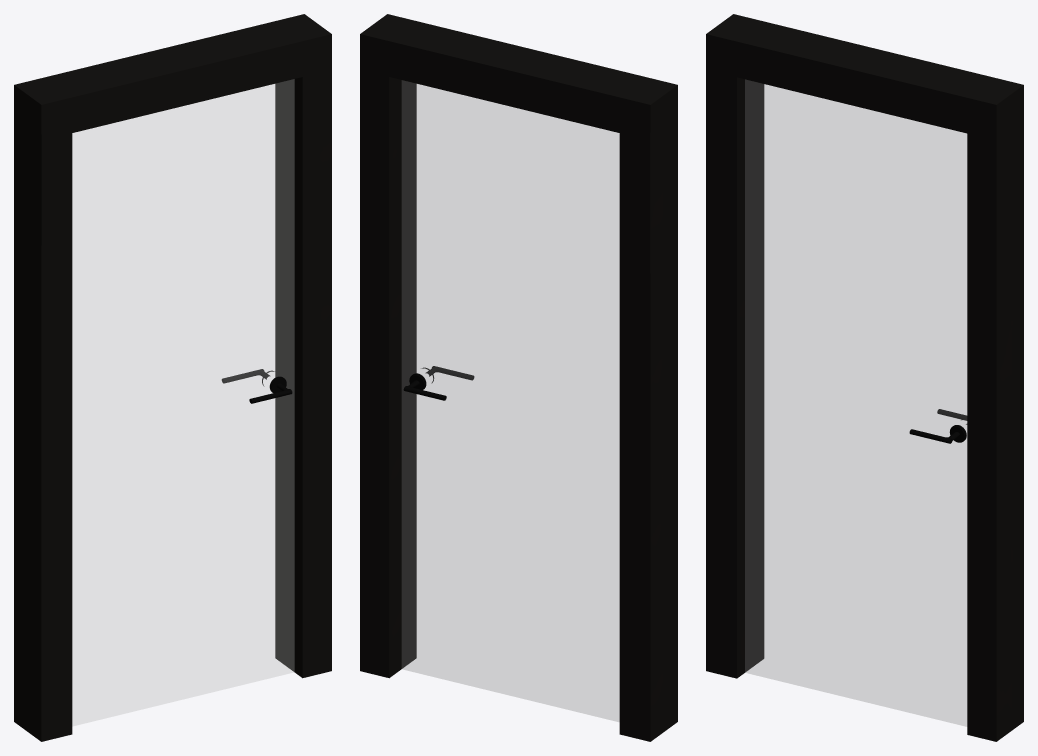
File: objs_.glb
3 views of the same model, side by side, from view 1: azimuth 30°, elevation 25°; view 2: azimuth 150°, elevation 25°; view 3: azimuth 330°, elevation 25° (orthographic).
Visible parts, largest first — view 1: door1:polySurface29; view 2: door1:polySurface29; view 3: door1:polySurface29.
Boxes of the visible parts, x1=… form: door1:polySurface29: x1=14, y1=14, x2=331, y2=741; door1:polySurface29: x1=360, y1=14, x2=677, y2=741; door1:polySurface29: x1=706, y1=14, x2=1023, y2=741.
Size of the model in its own units: 1.01 by 2.11 by 0.1871.
Materials: 1 (1 with a texture image).
